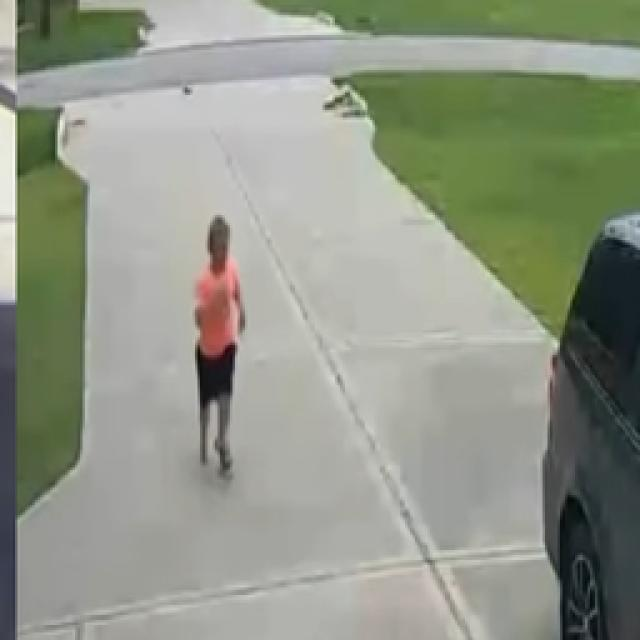person: (195, 215, 242, 470)
